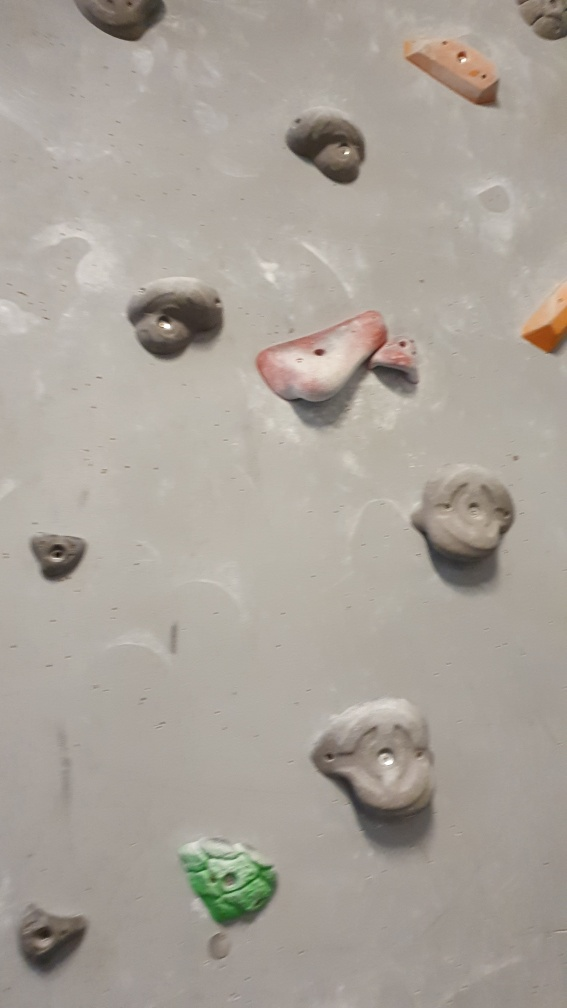Crimp: (27, 528, 88, 584)
Hand Start: (204, 927, 235, 963)
Jug: (306, 694, 438, 824), (405, 463, 517, 575), (125, 277, 226, 362), (281, 102, 368, 187)
Pinch: (400, 32, 505, 115), (519, 273, 567, 359)
